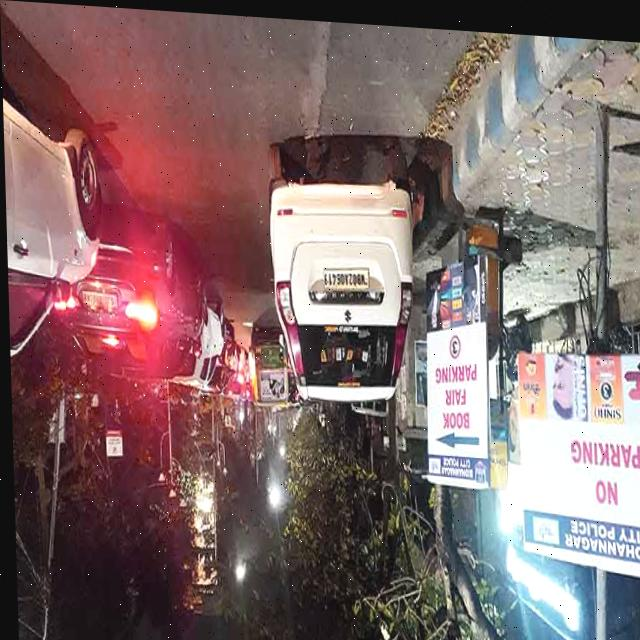plate: (320, 257, 371, 289), (78, 286, 119, 312)
